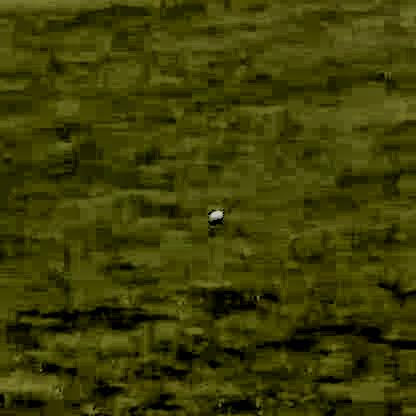golfball: (207, 208, 222, 222)
